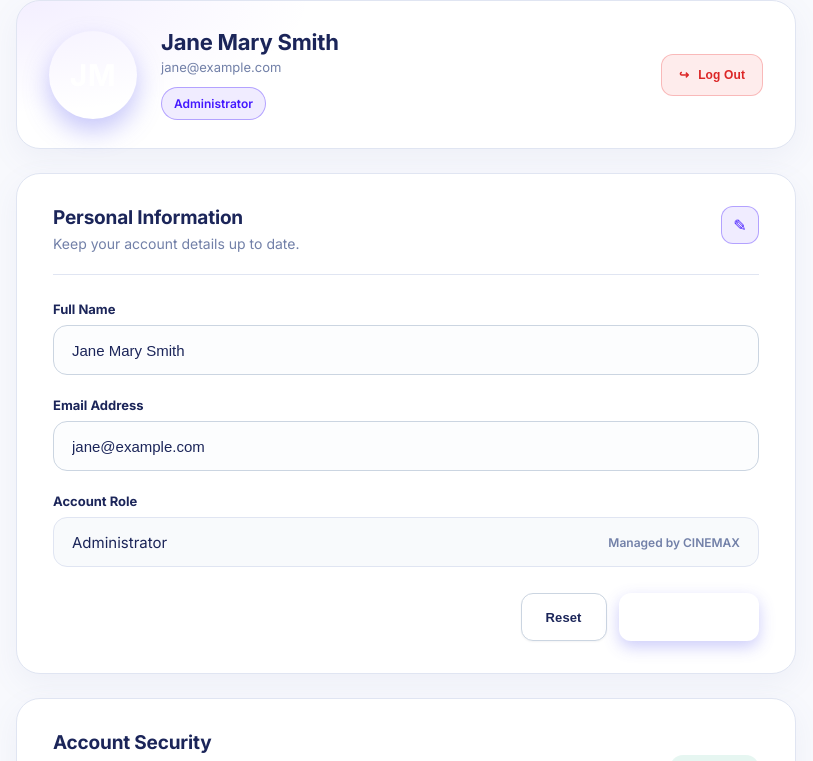
AdminProfile › shows the API error message when the update fails
This screenshot has width=813, height=761.
Click the button "Save Changes": (689, 617) [619,593,759,641]
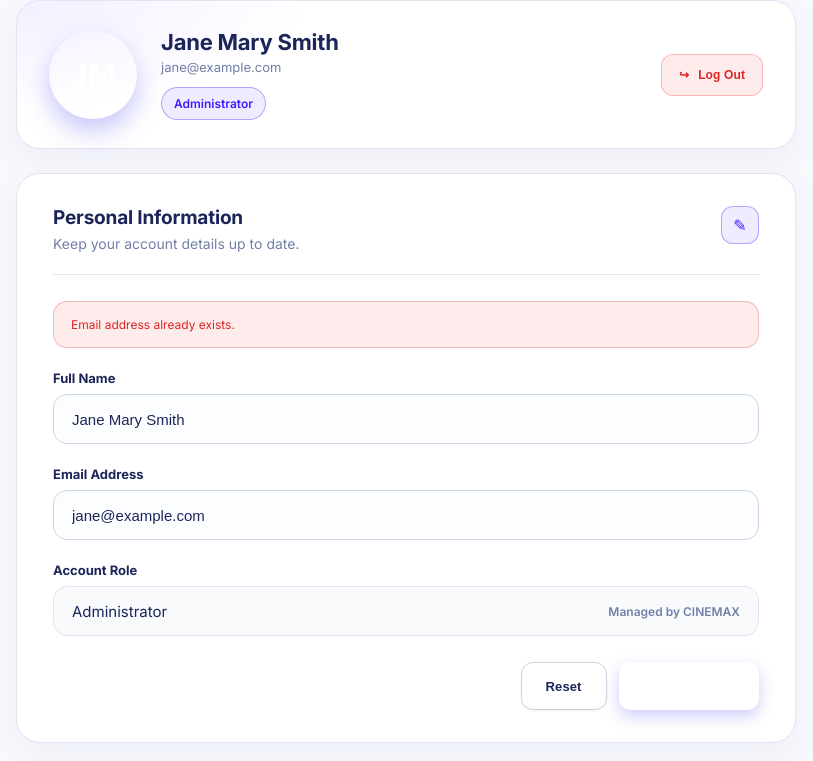
Check: the message reads "Email address already exists.", box [71,317,235,332]
